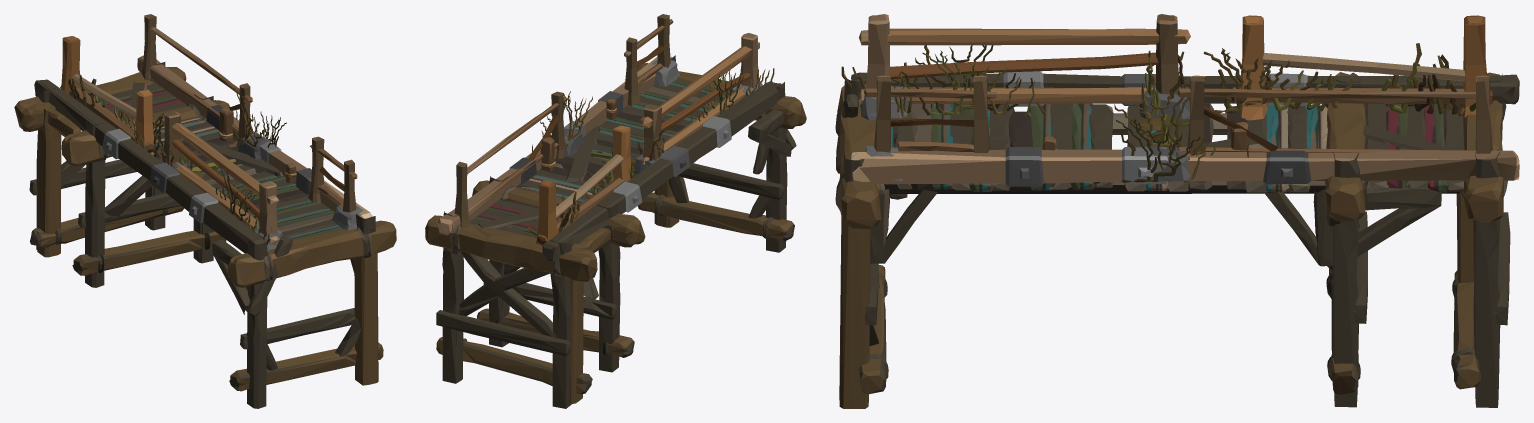
File: EA_Bridge_3x10_01b_PRE.prefab.glb
The picture shows the model from 3 angles, left to right: view 1: azimuth 30°, elevation 25°; view 2: azimuth 150°, elevation 25°; view 3: azimuth 270°, elevation 25°; orthographic projection. The views are drawn at different scales.
Parts seen in each view (by area): view 1: EA_Bridge_3x10_01b; view 2: EA_Bridge_3x10_01b; view 3: EA_Bridge_3x10_01b.
Boxes of the visible parts, x1,y1,x2,y2 form: EA_Bridge_3x10_01b: [14, 14, 396, 408]; EA_Bridge_3x10_01b: [425, 14, 806, 408]; EA_Bridge_3x10_01b: [835, 14, 1519, 408].
Bounding box in the file's own units: 4.42 × 5.41 × 10.5.
Materials: 1 (1 with a texture image).
